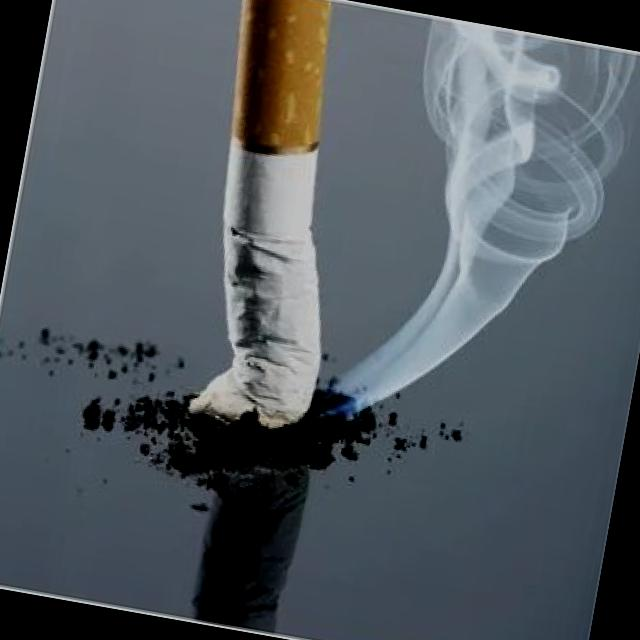smoke: (154, 0, 393, 455)
